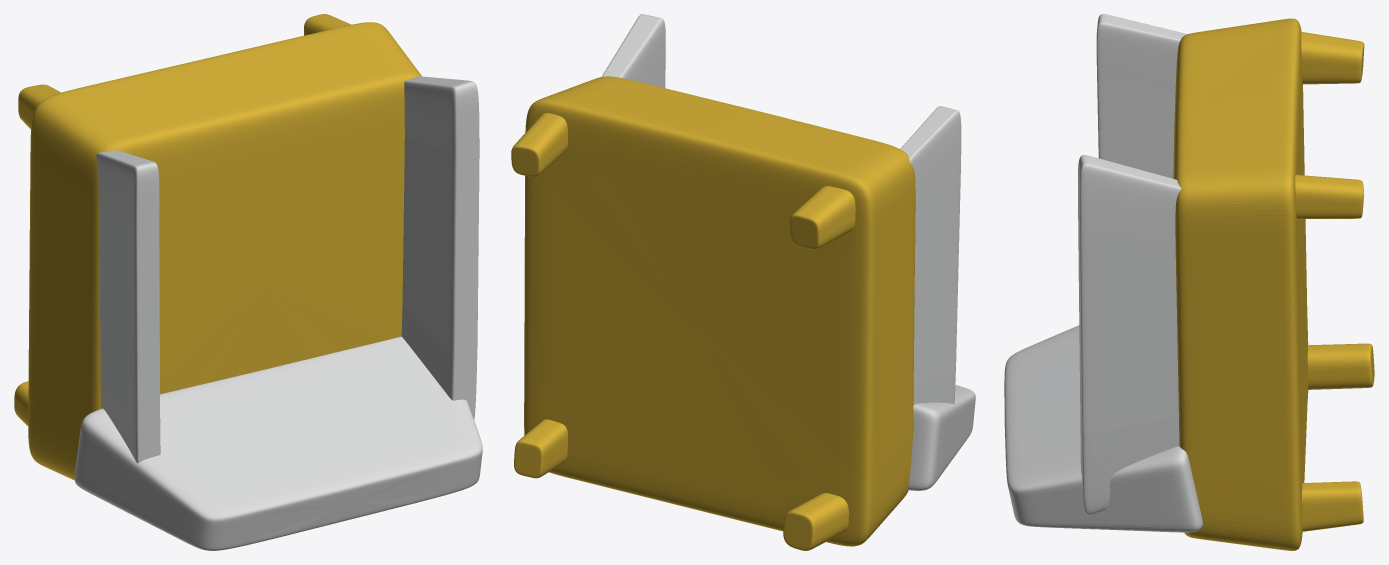
The model's file is 3_sofa.glb.
3 views of the same model, side by side, from view 1: azimuth 30°, elevation 25°; view 2: azimuth 150°, elevation 25°; view 3: azimuth 270°, elevation 25° (orthographic). The views are drawn at different scales.
Parts seen in each view (by area): view 1: superquadric_0, superquadric_1, superquadric_2, superquadric_3, superquadric_5, superquadric_7; view 2: superquadric_0, superquadric_3, superquadric_1, superquadric_2, superquadric_5, superquadric_6, superquadric_7, superquadric_4; view 3: superquadric_0, superquadric_2, superquadric_1, superquadric_3, superquadric_6, superquadric_5, superquadric_7, superquadric_4.
Part boxes in pixels (x1,y1,x2,y2): superquadric_0: (28, 22, 421, 480); superquadric_1: (74, 336, 482, 550); superquadric_2: (401, 76, 479, 419); superquadric_3: (96, 150, 160, 463); superquadric_5: (18, 84, 60, 128); superquadric_7: (304, 14, 351, 35); superquadric_0: (524, 76, 915, 546); superquadric_3: (900, 106, 961, 405); superquadric_1: (908, 385, 975, 490); superquadric_2: (601, 14, 665, 87); superquadric_5: (790, 186, 855, 249); superquadric_6: (783, 493, 848, 550); superquadric_7: (511, 113, 567, 176); superquadric_4: (514, 419, 567, 478); superquadric_0: (1173, 18, 1308, 550); superquadric_2: (1078, 155, 1181, 514); superquadric_1: (1004, 325, 1202, 532); superquadric_3: (1096, 14, 1186, 178); superquadric_6: (1307, 343, 1374, 389); superquadric_5: (1301, 32, 1364, 84); superquadric_7: (1295, 175, 1363, 219); superquadric_4: (1302, 481, 1363, 531).
Size of the model in its own units: 0.9844 by 1 by 0.8609.
